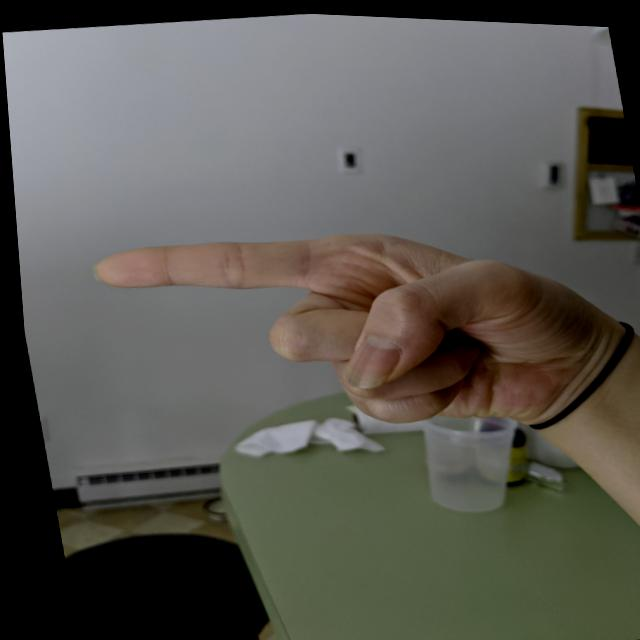G: (76, 188, 628, 471)
